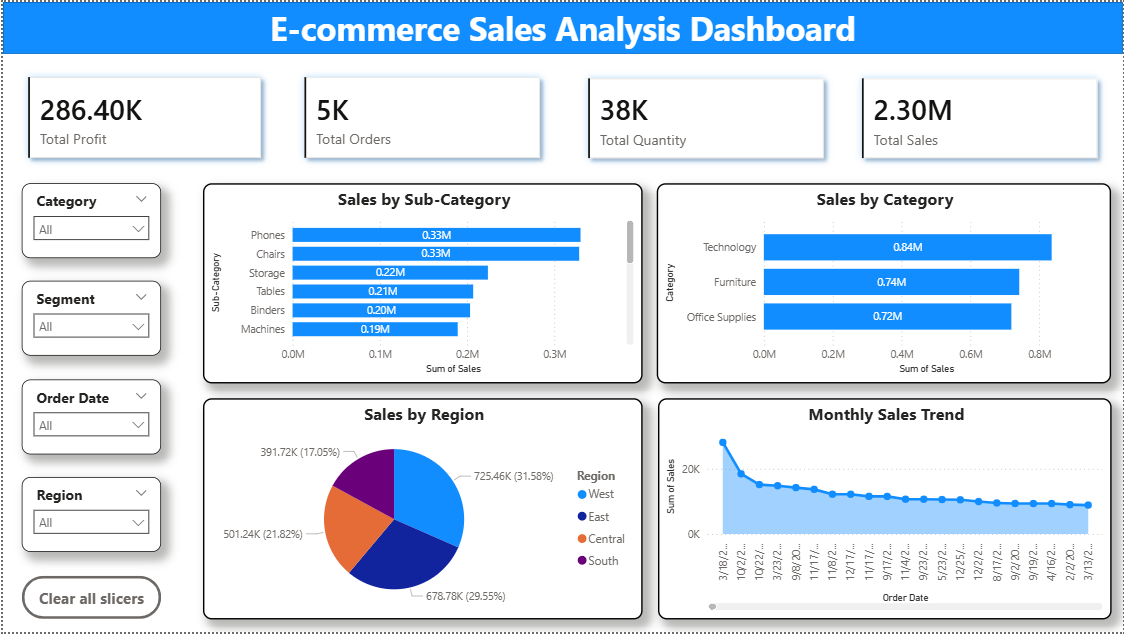

What the dashboard file says about the page in this screenshot:
{"tool":"powerbi","page":{"name":"Overview Dashboard","canvas":[1280,720],"ordinal":0},"visuals":[{"type":"cardVisual","fields":{"Data":["Superstore.Total Sales"]},"box":[952.2,58,327.5,149.3],"z":0},{"type":"cardVisual","fields":{"Data":["Superstore.Total Quantity"]},"box":[640.6,58,327.5,149.3],"z":1000},{"type":"cardVisual","fields":{"Data":["Superstore.Total Profit"]},"box":[0,56.5,324.6,150.7],"z":2000},{"type":"cardVisual","fields":{"Data":["Superstore.Total Orders"]},"box":[315.9,56.5,327.5,150.7],"z":3000},{"type":"clusteredBarChart","title":"Sales by Category","fields":{"Category":["Superstore.Category"],"Y":["Sum(Superstore.Sales)"]},"box":[747.8,207.2,518.8,229],"z":4000},{"type":"clusteredBarChart","title":"Sales by Sub-Category","fields":{"Category":["Superstore.Sub-Category"],"Y":["Sum(Superstore.Sales)"]},"box":[228,207.8,502.6,228.9],"z":5000},{"type":"lineChart","title":"Monthly Sales Trend","fields":{"Category":["Superstore.Order Date"],"Y":["Sum(Superstore.Sales)"]},"box":[748,452.8,518.7,252.5],"z":6000},{"type":"pieChart","title":"Sales by Region","fields":{"Category":["Superstore.Region"],"Y":["Sum(Superstore.Sales)"]},"box":[228,452.8,502.6,252.5],"z":7000},{"type":"slicer","fields":{"Values":["Superstore.Category"]},"box":[21.7,207.2,159.4,85.5],"z":8000},{"type":"slicer","fields":{"Values":["Superstore.Region"]},"box":[21.7,543,159.2,85.8],"z":9000},{"type":"slicer","fields":{"Values":["Superstore.Segment"]},"box":[21.7,319,159.2,85.8],"z":10000},{"type":"slicer","fields":{"Values":["Superstore.Order Date"]},"box":[21.7,431,159.2,85.8],"z":11000},{"type":"actionButton","box":[21.7,655.1,159.4,49.3],"z":12000},{"type":"shape","box":[0,0,1279.7,59.4],"z":13000}]}

Visuals, with their boxes in screenshot pixels (x1, y1, x2, y2), scaled from the page's 1280x720 canvas onto the 1124x634 screenshot:
cardVisual - Superstore.Total Sales: crop(836, 51, 1123, 183)
cardVisual - Superstore.Total Quantity: crop(563, 51, 850, 183)
cardVisual - Superstore.Total Profit: crop(0, 50, 285, 182)
cardVisual - Superstore.Total Orders: crop(277, 50, 565, 182)
"Sales by Category" clusteredBarChart: crop(657, 182, 1112, 384)
"Sales by Sub-Category" clusteredBarChart: crop(200, 183, 642, 385)
"Monthly Sales Trend" lineChart: crop(657, 399, 1112, 621)
"Sales by Region" pieChart: crop(200, 399, 642, 621)
slicer - Superstore.Category: crop(19, 182, 159, 258)
slicer - Superstore.Region: crop(19, 478, 159, 554)
slicer - Superstore.Segment: crop(19, 281, 159, 356)
slicer - Superstore.Order Date: crop(19, 380, 159, 455)
actionButton: crop(19, 577, 159, 620)
shape: crop(0, 0, 1123, 52)
